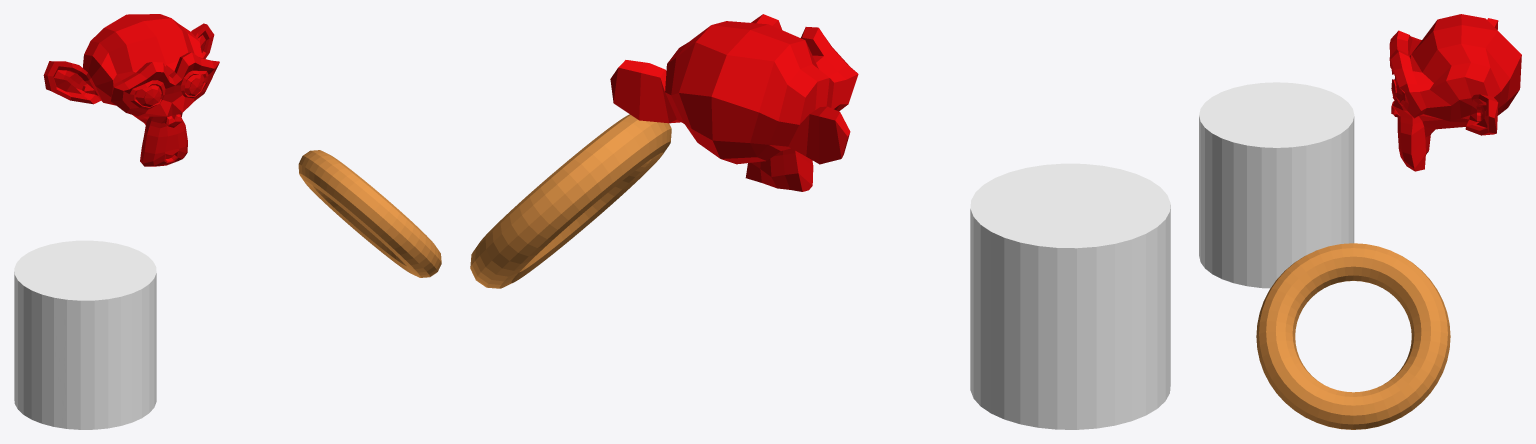
The picture shows the model from 3 angles, left to right: view 1: azimuth 30°, elevation 25°; view 2: azimuth 150°, elevation 25°; view 3: azimuth 270°, elevation 25°; orthographic projection. The views are drawn at different scales.
Parts seen in each view (by area): view 1: Cylinder, Suzanne, Torus; view 2: Cylinder, Suzanne, Torus; view 3: Cylinder, Torus, Suzanne.
Boxes of the visible parts, box(x1,y1,x2,y2) form: Cylinder: box(14, 240, 156, 429); Suzanne: box(43, 14, 219, 166); Torus: box(298, 150, 441, 277); Cylinder: box(970, 163, 1170, 429); Suzanne: box(610, 14, 858, 191); Torus: box(470, 114, 671, 288); Cylinder: box(1199, 82, 1354, 288); Torus: box(1256, 243, 1450, 429); Suzanne: box(1389, 14, 1521, 171).
Size of the model in its own units: 7.09 by 4.36 by 4.16.
